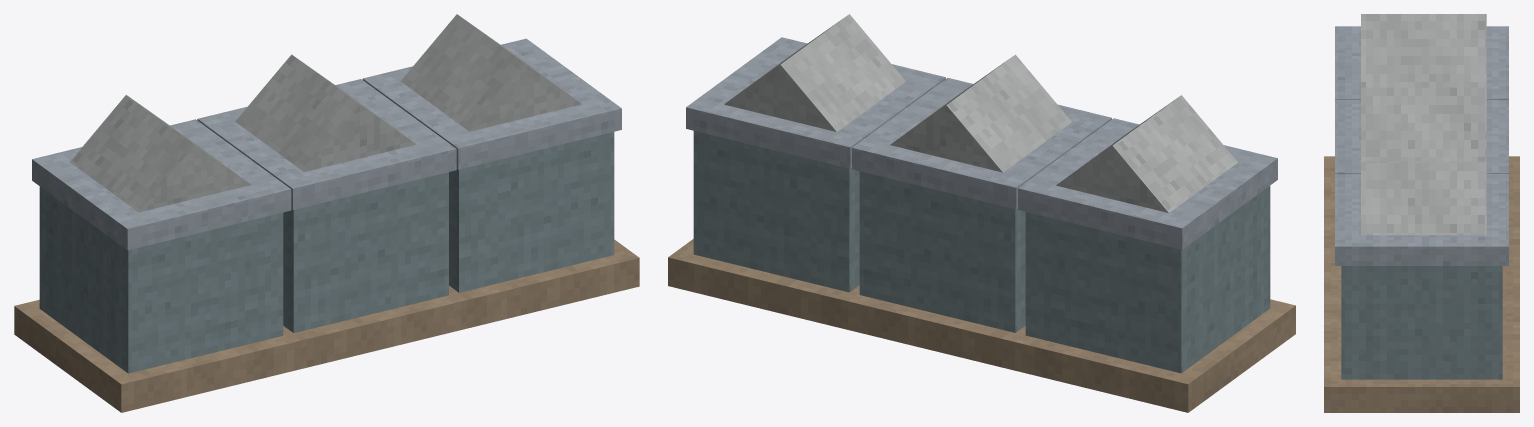
File: level_blockout_mine_sorting_bins.glb
3 views of the same model, side by side, from view 1: azimuth 30°, elevation 25°; view 2: azimuth 150°, elevation 25°; view 3: azimuth 270°, elevation 25° (orthographic). The views are drawn at different scales.
Visible parts, largest first — view 1: level_blockout_mine_sorting_bins; view 2: level_blockout_mine_sorting_bins; view 3: level_blockout_mine_sorting_bins.
Part boxes in pixels (<box>): level_blockout_mine_sorting_bins: <box>14,14,639,412</box>; level_blockout_mine_sorting_bins: <box>668,14,1295,412</box>; level_blockout_mine_sorting_bins: <box>1324,14,1519,412</box>.
Bounding box in the file's own units: 3.04 × 1.29 × 1.09.
Materials: 4 (4 with a texture image).
